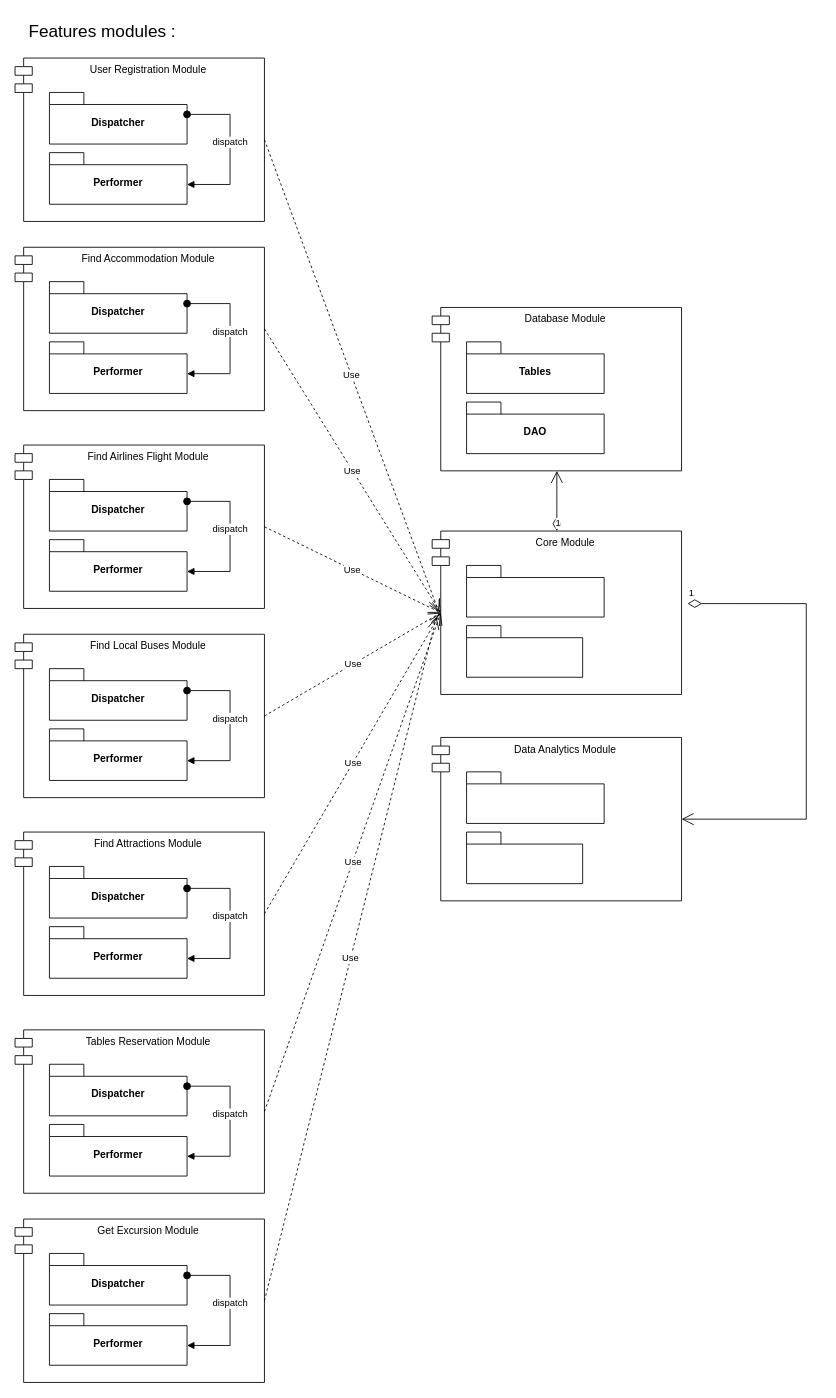
Image size: 836x1398. Some labels were removed from this diagram. The shapes that lost their labels are listed below. From the top down, each one's centre as x and y in pixels, then its label:
[535,591]: Data
[524,651]: UI
[535,797]: Machine Learning
[524,857]: Calculations
